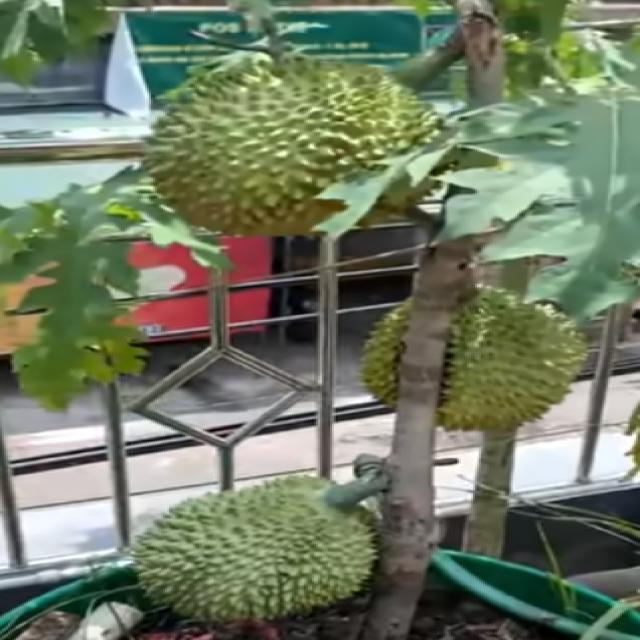immature: (141, 56, 447, 242), (130, 476, 381, 622), (358, 283, 588, 426)
